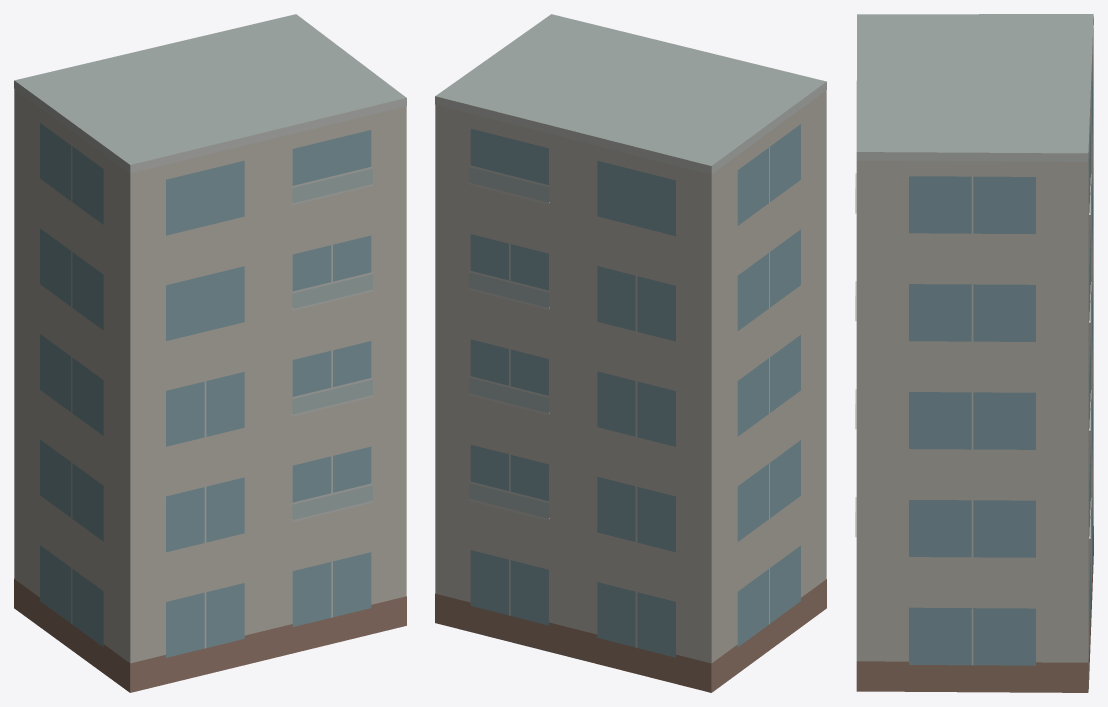
Rendered from survey-upis-32728809.glb.
3 views of the same model, side by side, from view 1: azimuth 30°, elevation 25°; view 2: azimuth 150°, elevation 25°; view 3: azimuth 270°, elevation 25° (orthographic). The views are drawn at different scales.
Parts seen in each view (by area): view 1: survey-upis-32728809.tmp; view 2: survey-upis-32728809.tmp; view 3: survey-upis-32728809.tmp.
Boxes of the visible parts, x1,y1,x2,y2 form: survey-upis-32728809.tmp: (14,14,406,692); survey-upis-32728809.tmp: (435,14,826,692); survey-upis-32728809.tmp: (855,14,1093,692).
Bounding box in the file's own units: 8.49 × 15.3 × 6.14.
